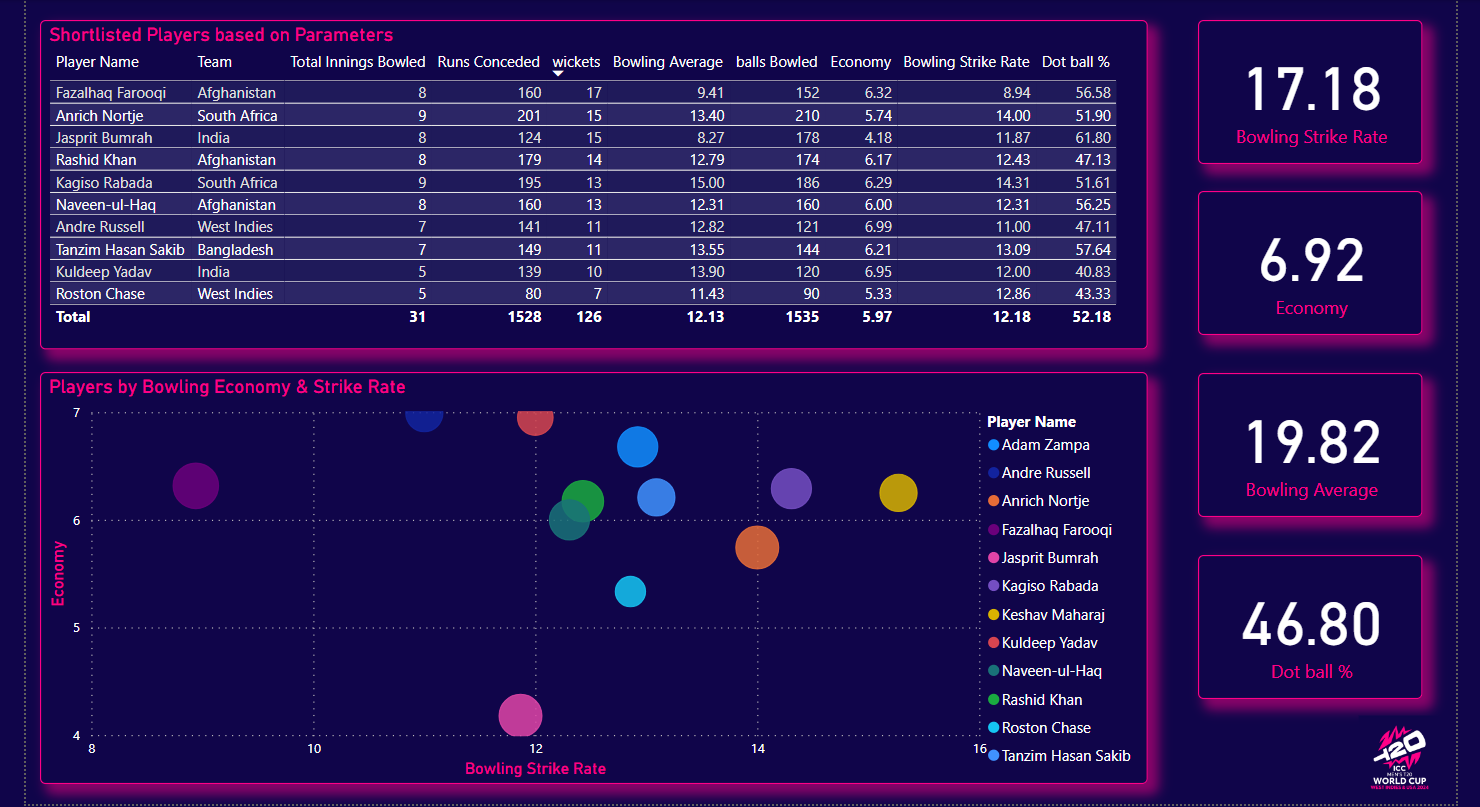

The page's visual inventory and layout, read from the dashboard file:
{"tool":"powerbi","page":{"name":"Bowlers","canvas":[1280,720],"ordinal":3},"visuals":[{"type":"tableEx","title":"Shortlisted Players based on Parameters","fields":{"Values":["t20worldcup_2024_players.Player Name","t20worldcup_2024_players.Team","key_measures.Total Innings Bowled","key_measures.Runs Conceded","key_measures.wickets","key_measures.Bowling Average","key_measures.balls Bowled","key_measures.Economy","key_measures.Bowling Strike Rate","key_measures.Dot ball %"]},"box":[12.3,17.8,992.1,295],"z":0},{"type":"scatterChart","title":"Players by Bowling Economy & Strike Rate","fields":{"Category":["t20worldcup_2024_players.Player Name"],"X":["key_measures.Bowling Strike Rate"],"Y":["key_measures.Economy"],"Series":["t20worldcup_2024_players.Player Name"],"Size":["key_measures.wickets"]},"box":[12.3,333.4,992.1,369.1],"z":1000},{"type":"card","fields":{"Values":["key_measures.Bowling Strike Rate"]},"box":[1049.2,18.1,201.4,129],"z":2000},{"type":"card","fields":{"Values":["key_measures.Economy"]},"box":[1049.2,171.3,201.4,129],"z":3000},{"type":"card","fields":{"Values":["key_measures.Dot ball %"]},"box":[1049.2,496.9,201.4,129],"z":4000},{"type":"card","fields":{"Values":["key_measures.Bowling Average"]},"box":[1049.2,334.1,201.4,129],"z":5000},{"type":"image","box":[1179.5,635.6,100.1,84.4],"z":5001}]}

Visuals, with their boxes on the page's 1280x720 design canvas (x1, y1, x2, y2). These are canvas units, not pixel positions in the 1480x807 screenshot, which may show the page scaled, cropped or inside an application window:
"Shortlisted Players based on Parameters" tableEx: box(12, 18, 1004, 313)
"Players by Bowling Economy & Strike Rate" scatterChart: box(12, 333, 1004, 702)
card - key_measures.Bowling Strike Rate: box(1049, 18, 1251, 147)
card - key_measures.Economy: box(1049, 171, 1251, 300)
card - key_measures.Dot ball %: box(1049, 497, 1251, 626)
card - key_measures.Bowling Average: box(1049, 334, 1251, 463)
image: box(1180, 636, 1280, 720)
